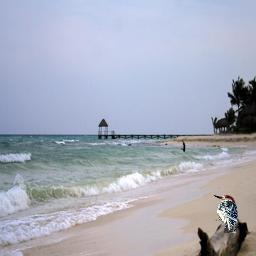Woodpecker: (212, 193, 239, 233)
